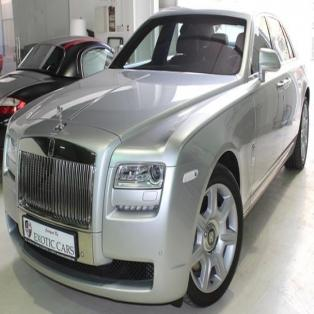Auto: (1, 7, 310, 308)
